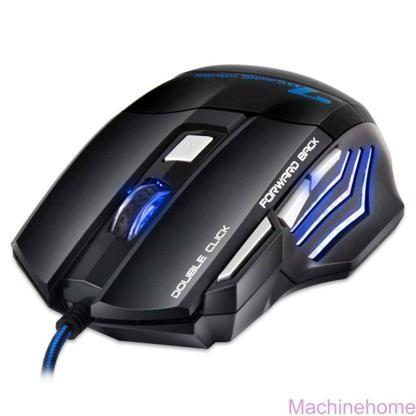not trash: (12, 63, 405, 350)
